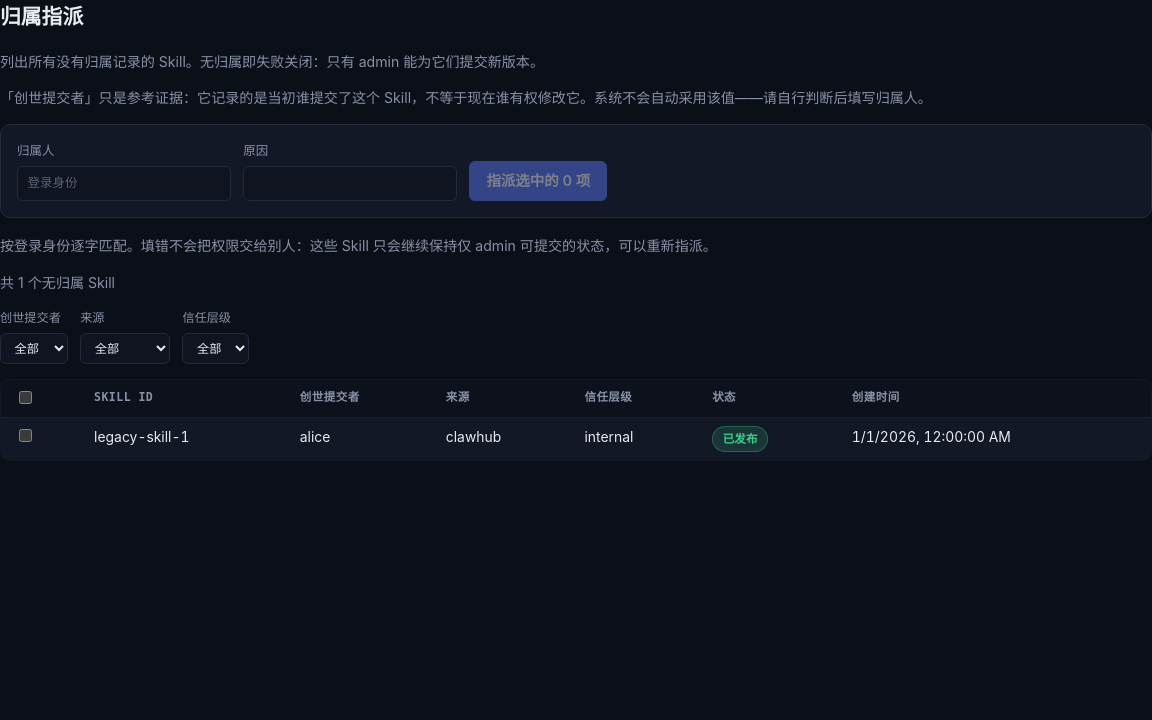
Scenario: AdminOwnershipPage › says so when the recognition check itself could not run
Click the checkbox named "legacy-skill-1" at (25,436), box [19,429,32,442]
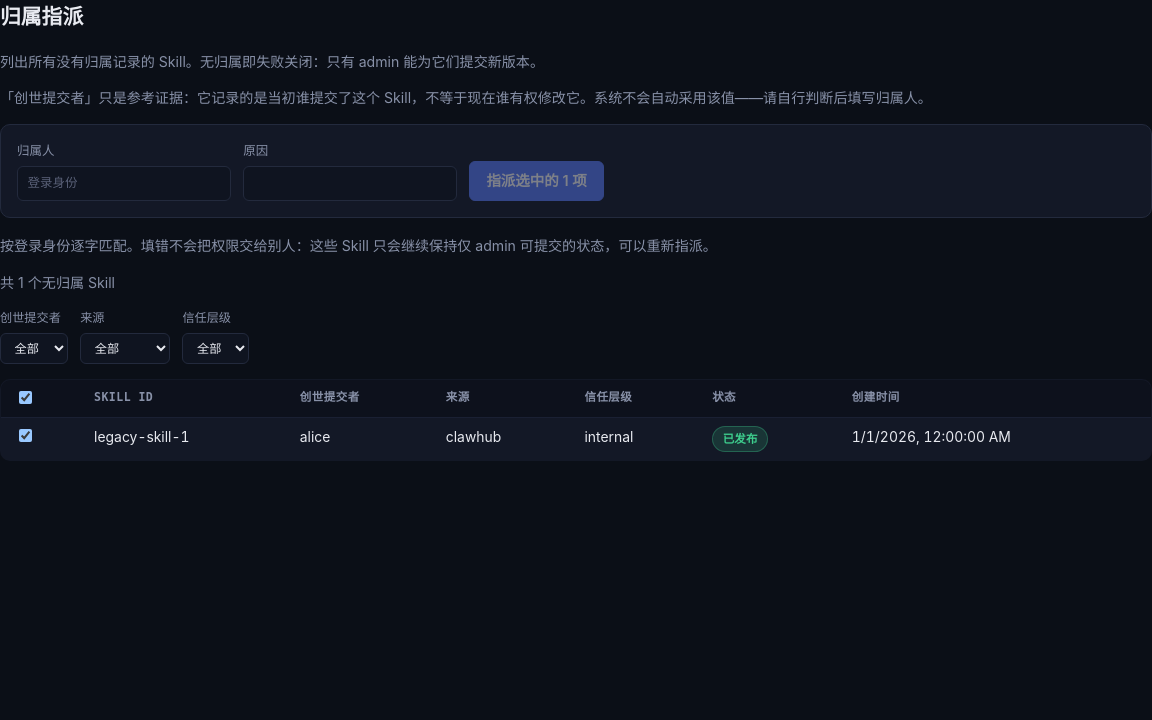
Type "alice" into the field with placeholder "登录身份" at (124,183), box [17,166,231,200]
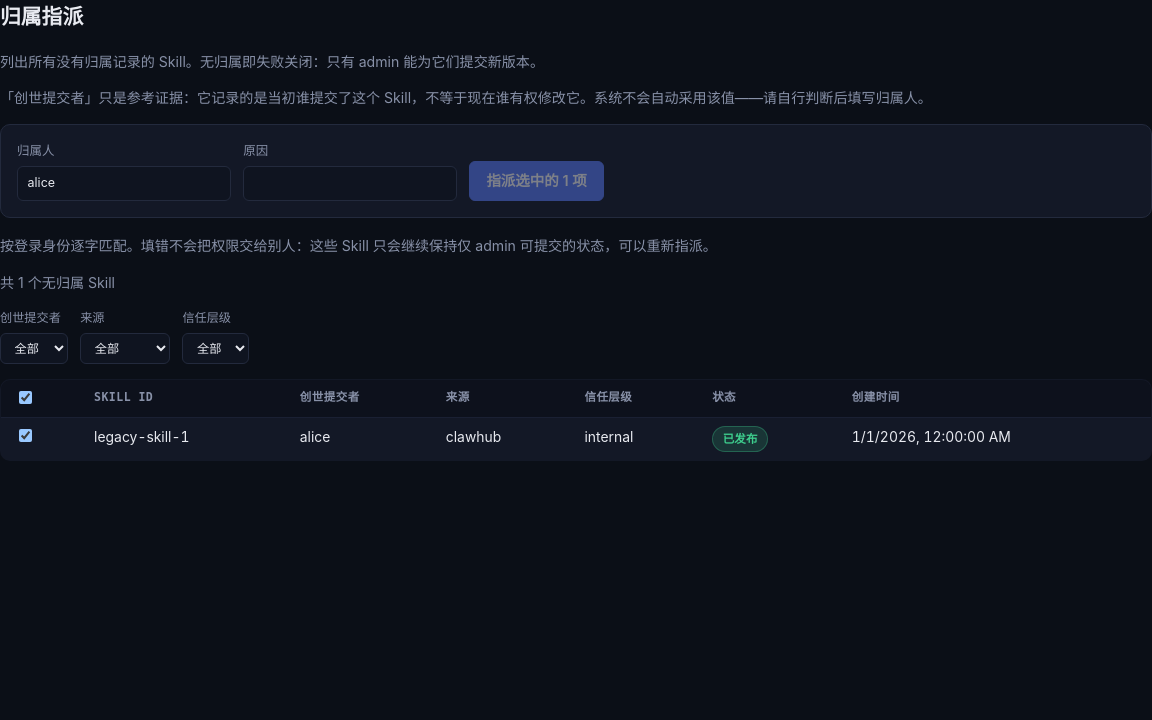
Type "r" into the field labelled "原因" at (350,183), box [243,166,457,200]
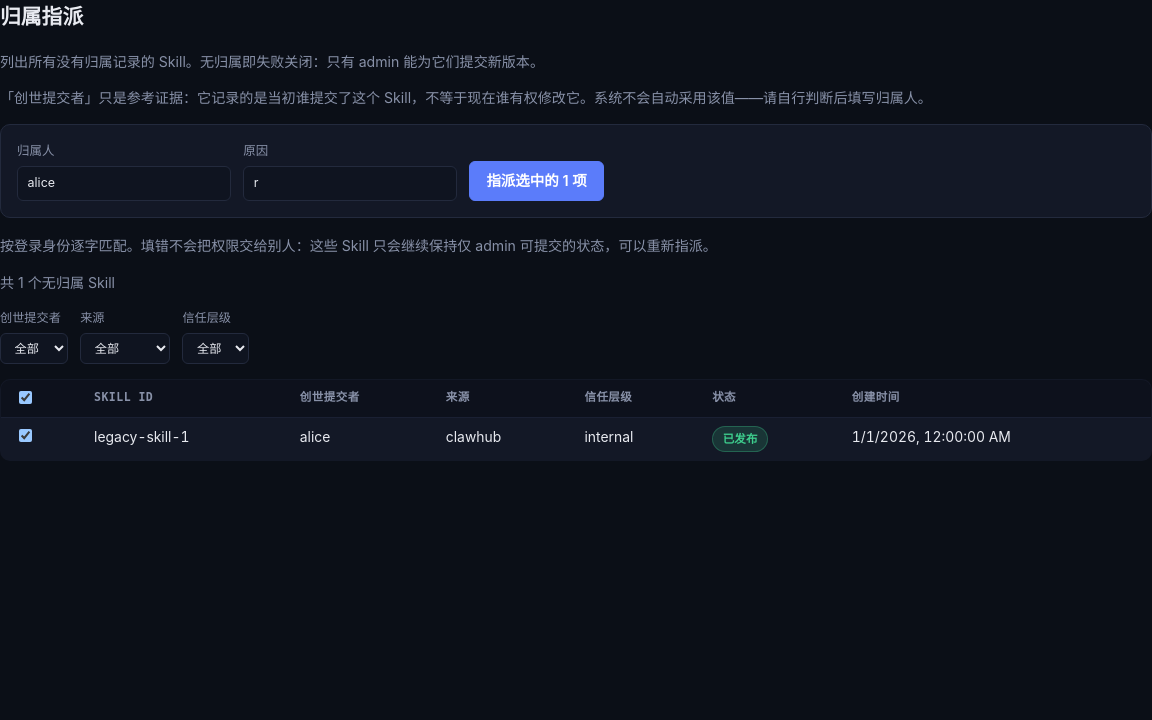
Click the button "指派选中的 1 项" at (537,181), box [469,161,604,201]
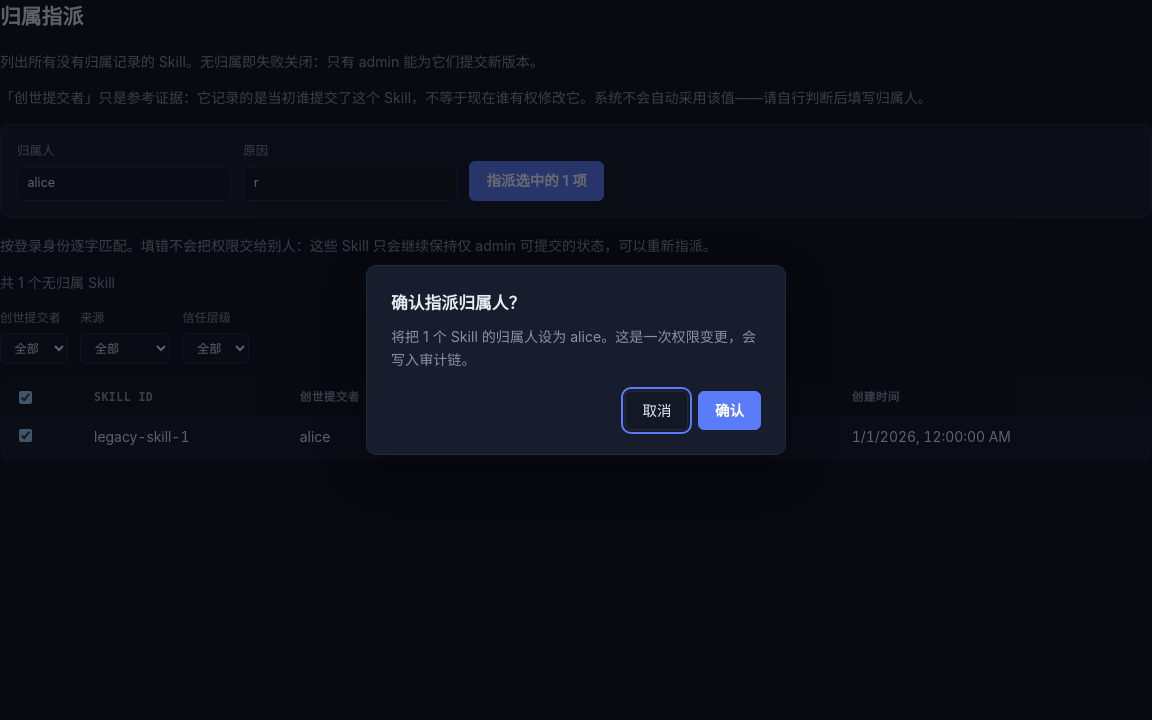
Click the button "确认" at (730,410), box [698,391,761,430]
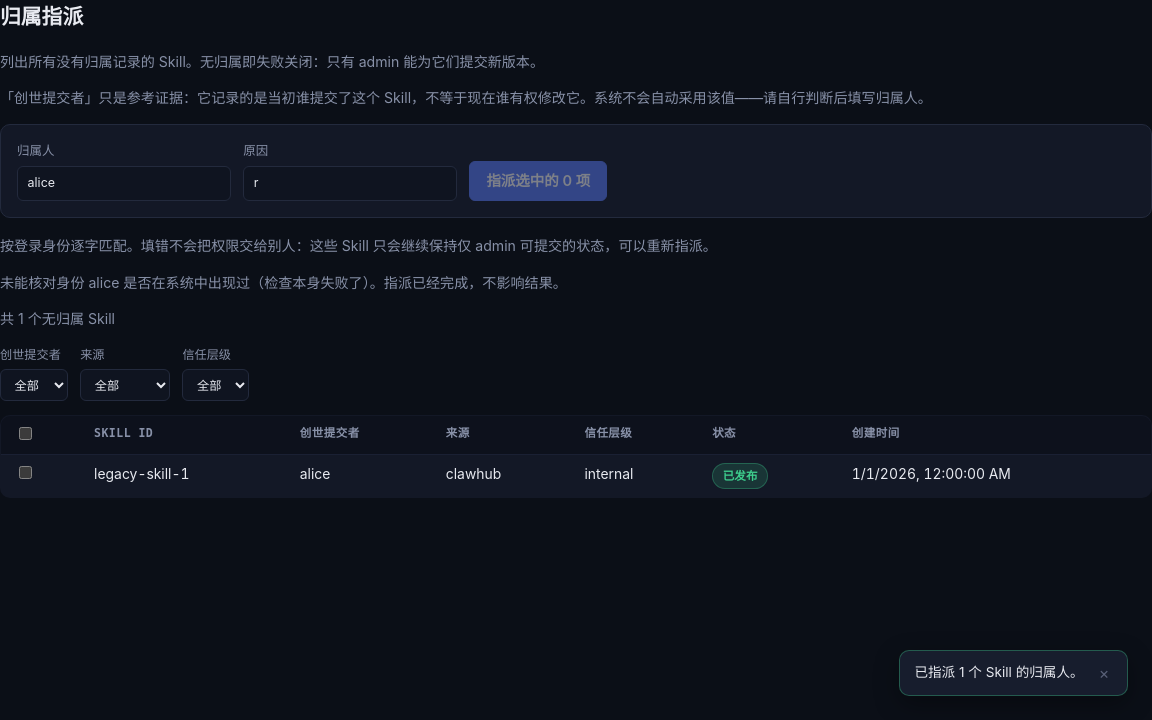
Expected: the text "未能核对身份 alice 是否在系统中出现过（检查本身失败了）。指派已经完成，不影响结果。" is shown, [0,274,567,291]
